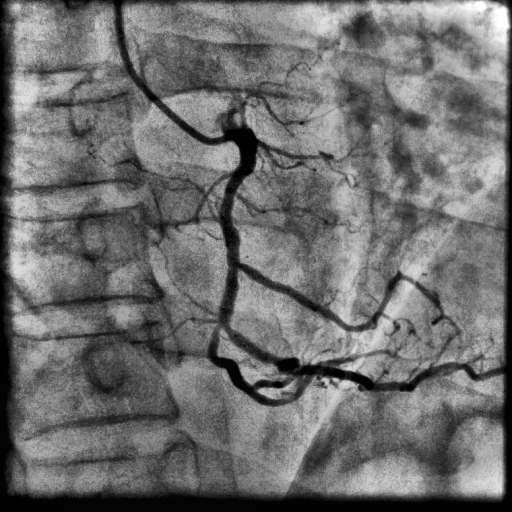pborca: (207, 322, 387, 406)
pda: (221, 322, 506, 392)
rca: (217, 127, 257, 328)
